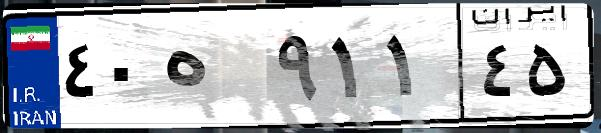0: (110, 28, 158, 98)
1: (385, 28, 445, 110), (330, 28, 385, 110)
4: (57, 26, 110, 100), (475, 38, 525, 113)
5: (525, 38, 570, 115)
9: (270, 28, 330, 110)
ه: (158, 20, 270, 120)
